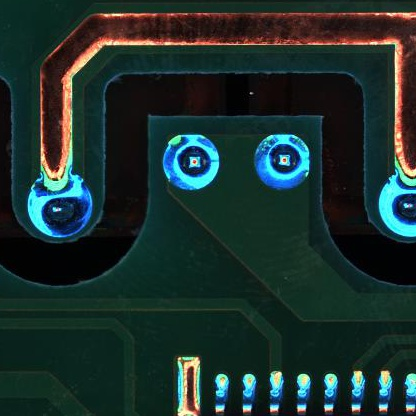spot: (30, 173, 94, 241), (252, 133, 311, 192), (163, 132, 220, 191)
